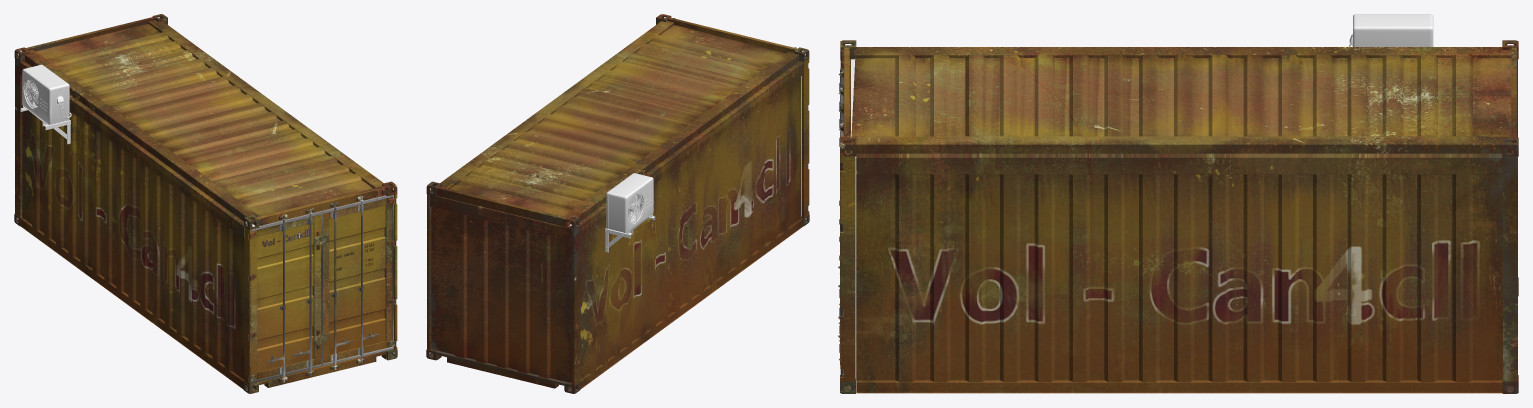
Rendered from container.glb.
3 views of the same model, side by side, from view 1: azimuth 30°, elevation 25°; view 2: azimuth 150°, elevation 25°; view 3: azimuth 270°, elevation 25° (orthographic). The views are drawn at different scales.
Parts seen in each view (by area): view 1: container, air conditioning; view 2: container, air conditioning; view 3: container, air conditioning.
Part boxes in pixels (left/top/right/bottom): container: left=14, top=14, right=397, bottom=393; air conditioning: left=20, top=64, right=71, bottom=144; container: left=426, top=14, right=809, bottom=393; air conditioning: left=605, top=173, right=655, bottom=252; container: left=838, top=40, right=1518, bottom=393; air conditioning: left=1349, top=14, right=1433, bottom=46.
Size of the model in its own units: 2.52 by 2.51 by 5.95.
Materials: 2 (1 with a texture image).
